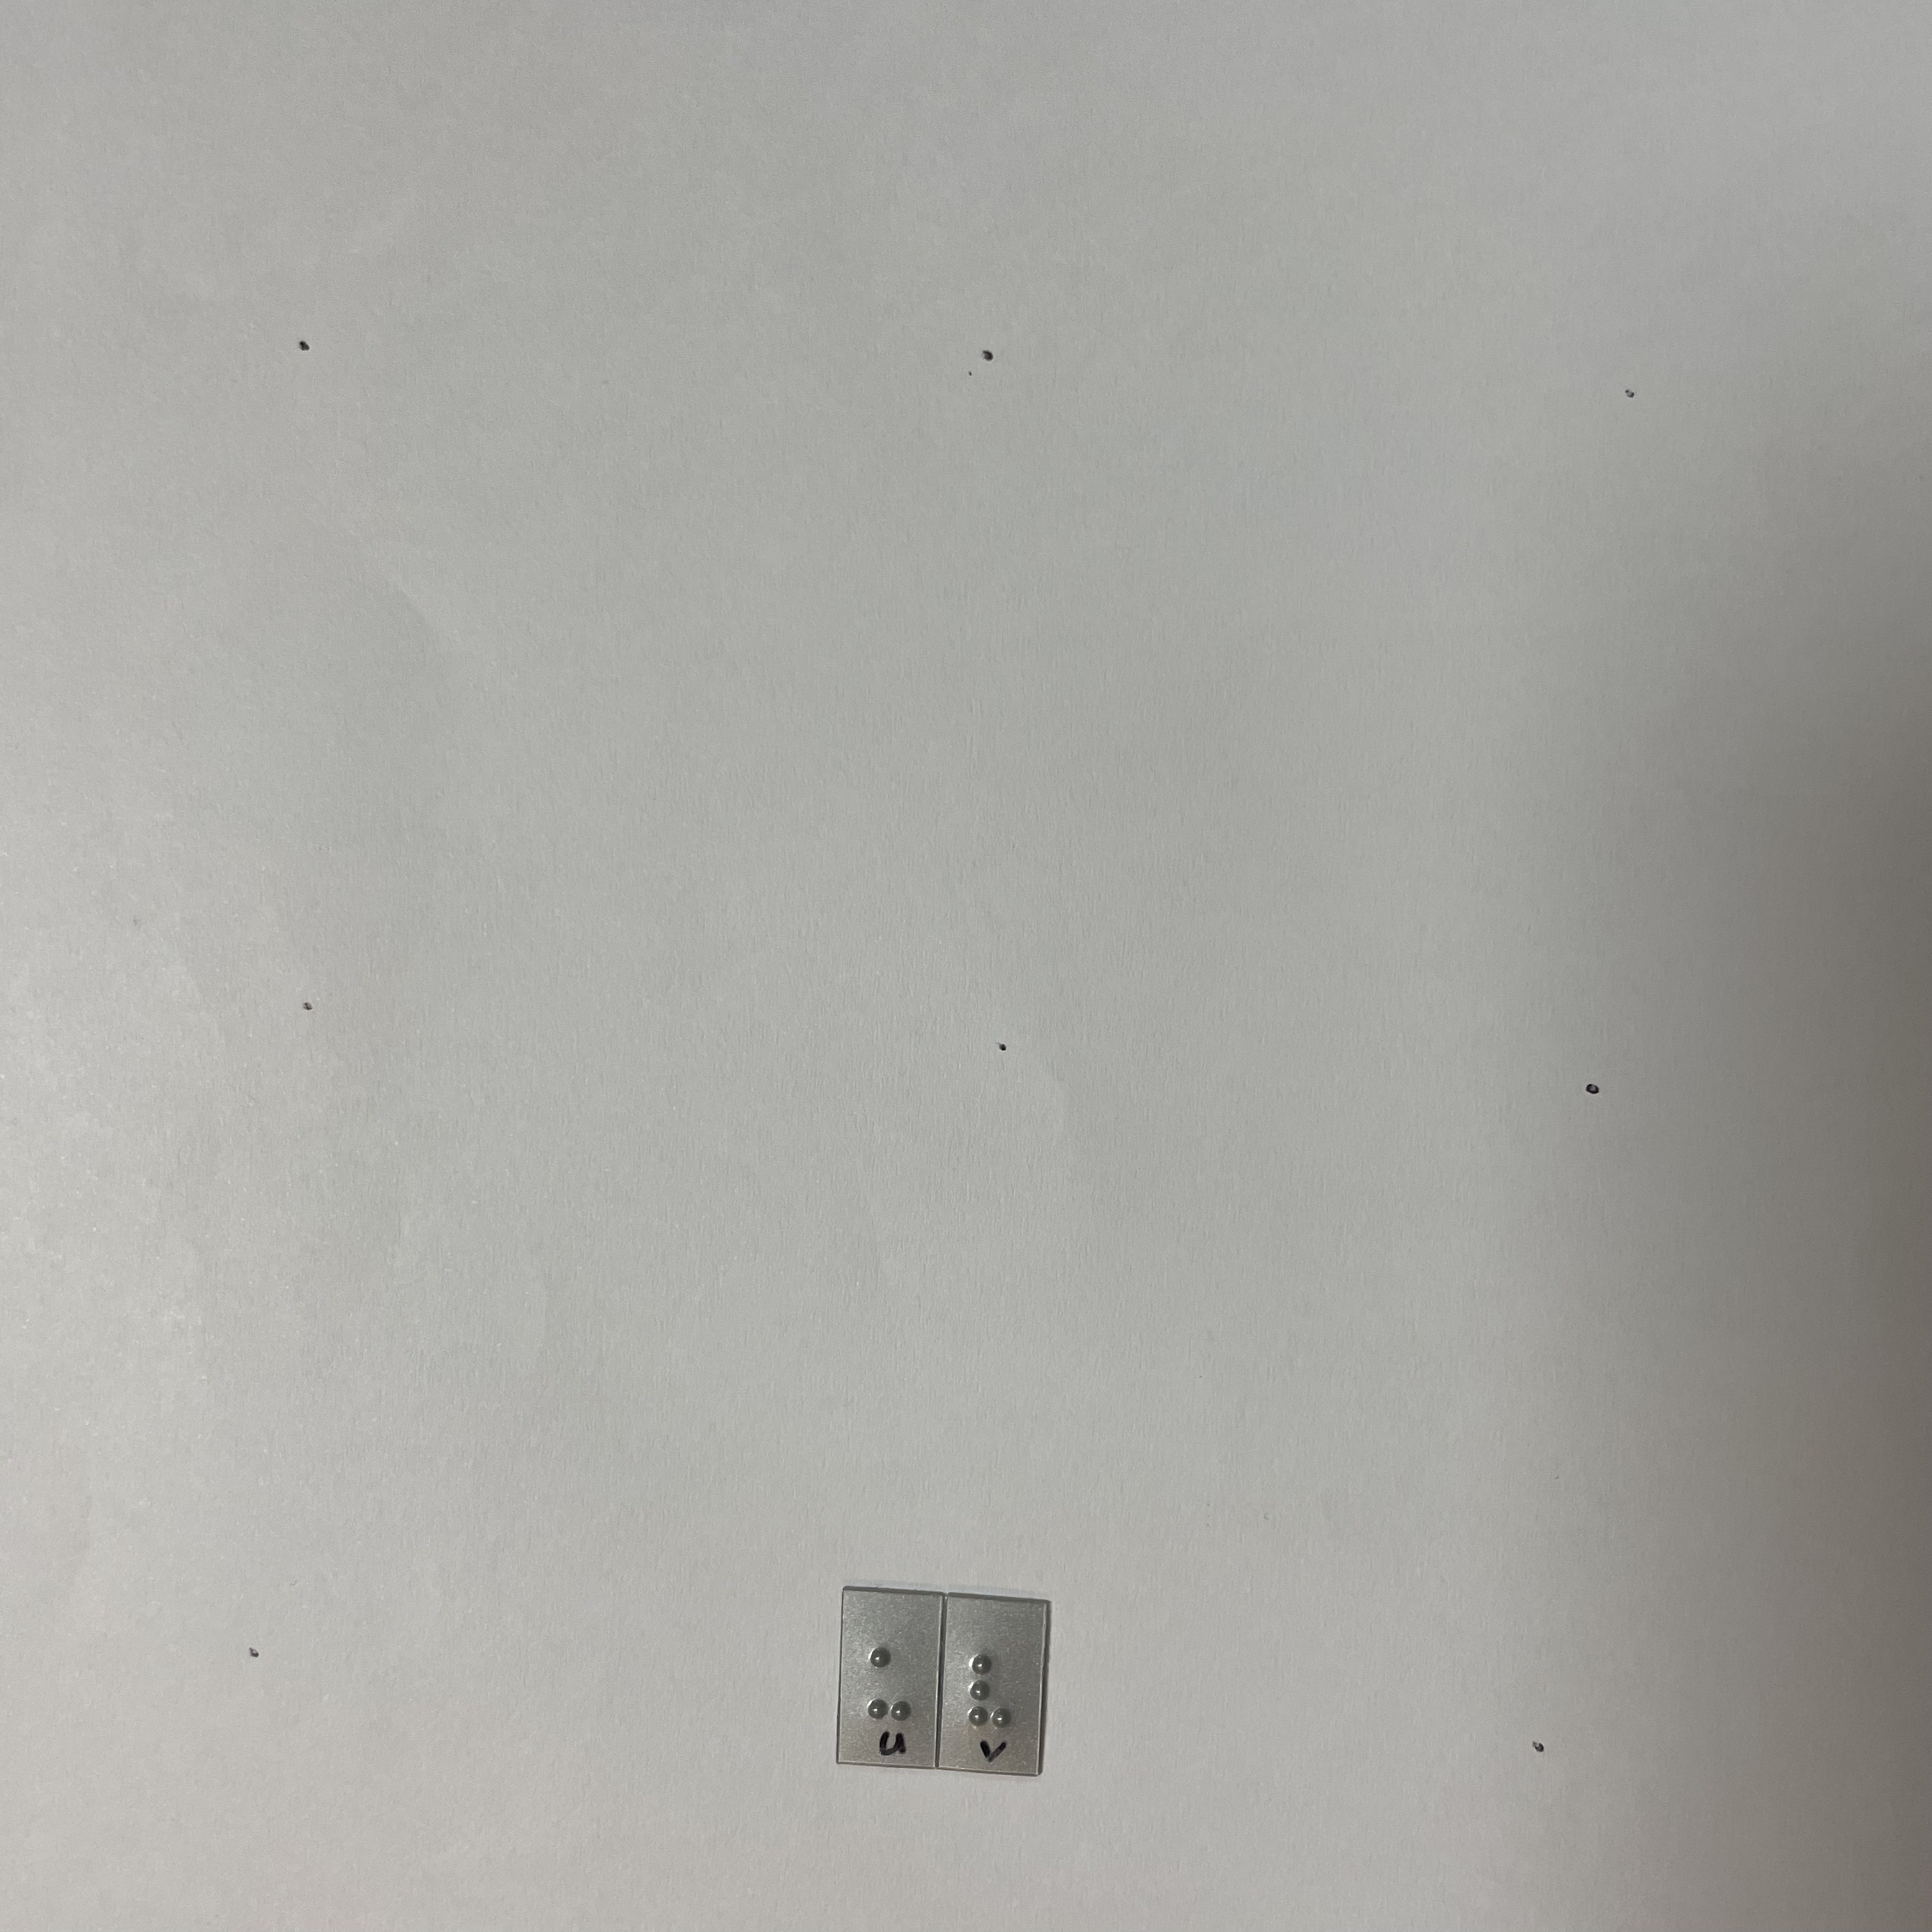u: (859, 1630, 928, 1730)
v: (961, 1640, 1022, 1737)
